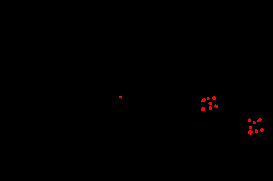Target: (248, 130, 253, 135), (201, 98, 206, 102), (257, 118, 262, 122), (212, 96, 216, 100), (214, 104, 218, 108), (201, 107, 205, 111), (260, 128, 264, 132), (208, 102, 212, 105), (209, 106, 212, 110), (248, 118, 251, 122), (255, 129, 258, 133), (207, 97, 210, 100), (253, 121, 256, 124), (249, 126, 252, 129), (119, 96, 122, 98)
